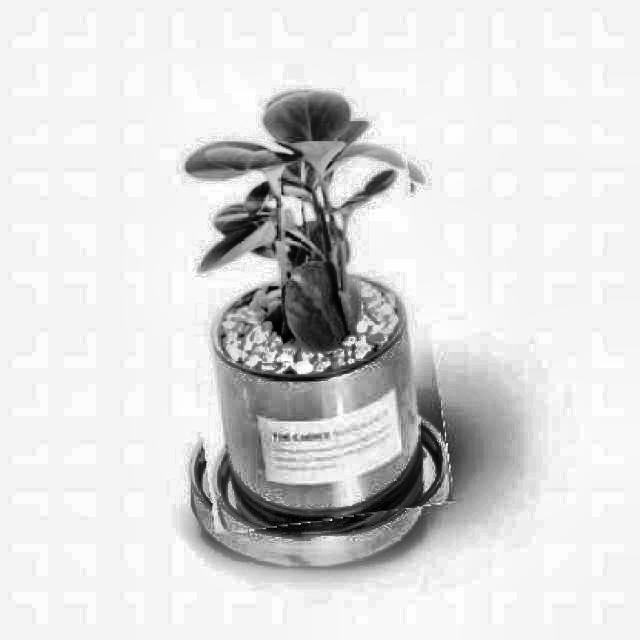plants: (172, 80, 440, 528)
